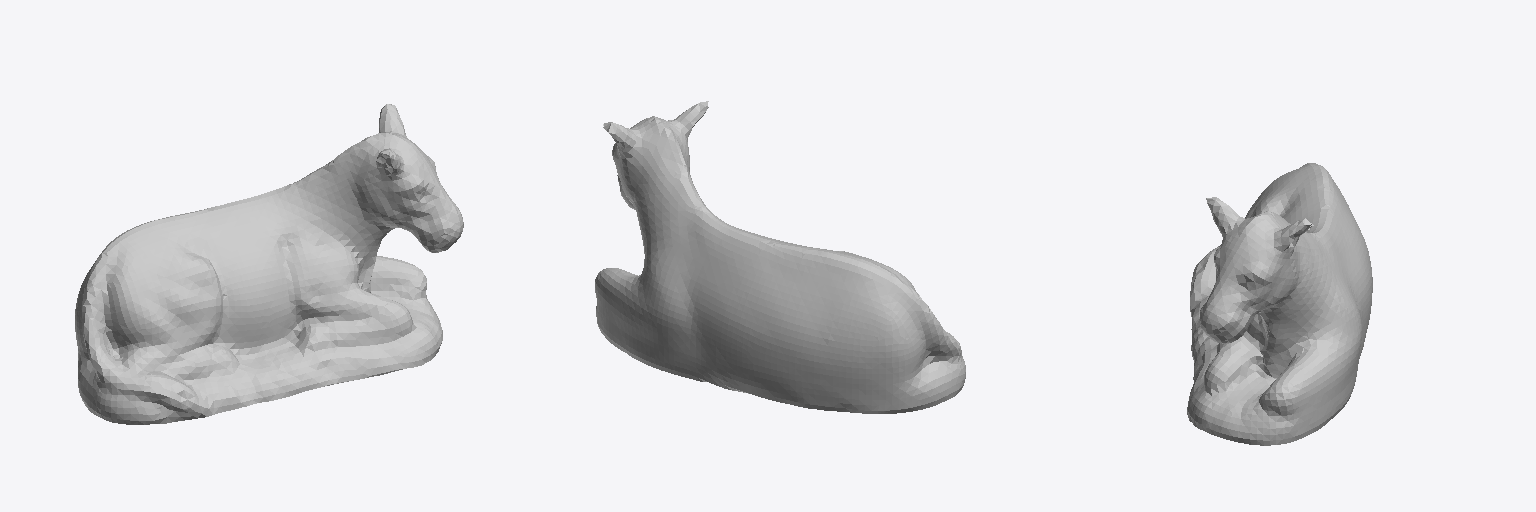
File: asinello.obj
3 views of the same model, side by side, from view 1: azimuth 30°, elevation 25°; view 2: azimuth 150°, elevation 25°; view 3: azimuth 270°, elevation 25° (orthographic).
Visible parts, largest first — view 1: Burro_LP2; view 2: Burro_LP2; view 3: Burro_LP2.
Part boxes in pixels (bbox=[...]): Burro_LP2: bbox=[75, 104, 463, 424]; Burro_LP2: bbox=[595, 101, 965, 413]; Burro_LP2: bbox=[1187, 163, 1372, 445].
Size of the model in its own units: 0.1873 by 0.1092 by 0.0851.